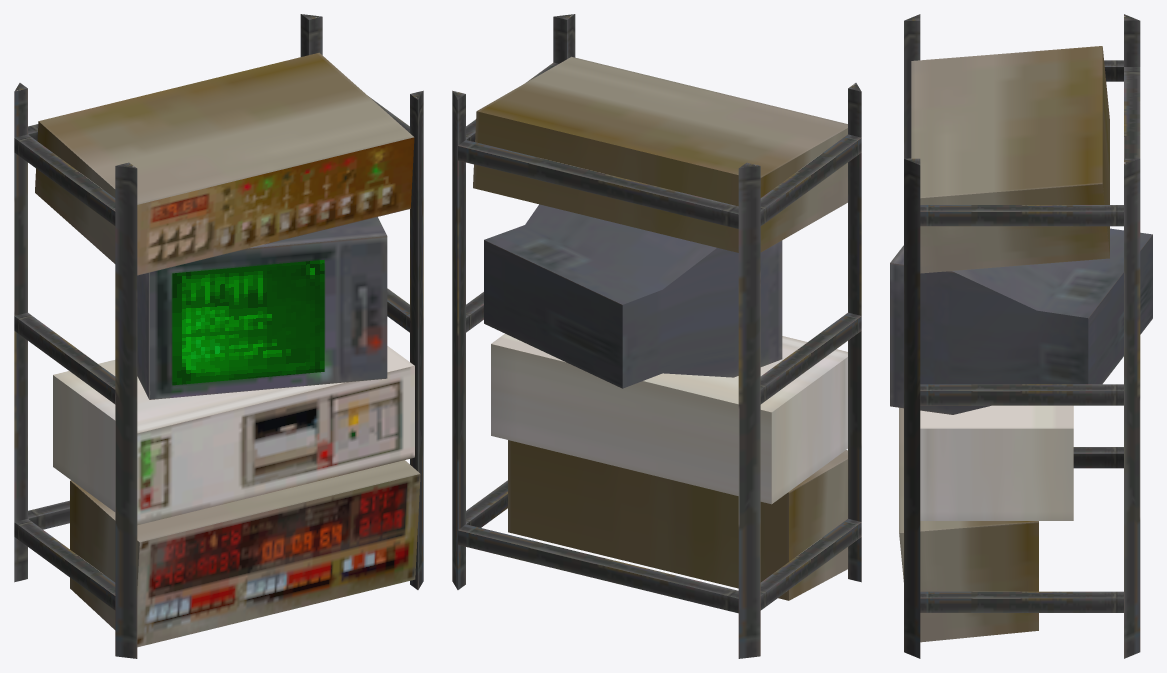
Rendered from MFrame1.glb.
The picture shows the model from 3 angles, left to right: view 1: azimuth 30°, elevation 25°; view 2: azimuth 150°, elevation 25°; view 3: azimuth 270°, elevation 25°; orthographic projection.
Visible parts, largest first — view 1: MFRAME1; view 2: MFRAME1; view 3: MFRAME1.
Boxes of the visible parts, x1,y1,x2,y2 form: MFRAME1: [14, 14, 423, 658]; MFRAME1: [452, 14, 861, 658]; MFRAME1: [890, 14, 1152, 658].
Bounding box in the file's own units: 0.878 × 1.34 × 0.644.
2 materials, 2 textured.
